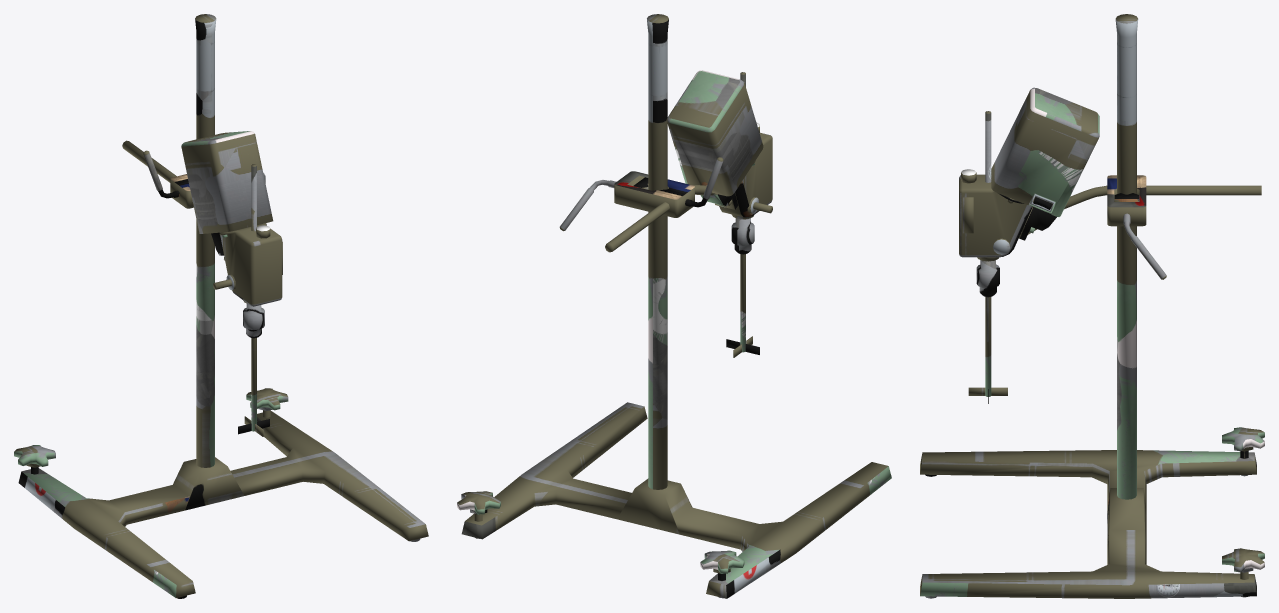
The model's file is Mechanical .fbx.
The picture shows the model from 3 angles, left to right: view 1: azimuth 30°, elevation 25°; view 2: azimuth 150°, elevation 25°; view 3: azimuth 270°, elevation 25°; orthographic projection. The views are drawn at different scales.
Parts seen in each view (by area): view 1: 1-_apts_agitator_mat, 2-_motor_apts_agitato, 4-_impeller_apts_agit; view 2: 1-_apts_agitator_mat, 2-_motor_apts_agitato, 4-_impeller_apts_agit; view 3: 1-_apts_agitator_mat, 2-_motor_apts_agitato, 4-_impeller_apts_agit, 3-_height_adjustment_.
Part boxes in pixels (x1=…): 1-_apts_agitator_mat: x1=14, y1=14, x2=428, y2=598; 2-_motor_apts_agitato: x1=122, y1=131, x2=282, y2=306; 4-_impeller_apts_agit: x1=238, y1=164, x2=269, y2=436; 1-_apts_agitator_mat: x1=457, y1=14, x2=891, y2=598; 2-_motor_apts_agitato: x1=605, y1=70, x2=772, y2=252; 4-_impeller_apts_agit: x1=726, y1=72, x2=759, y2=357; 1-_apts_agitator_mat: x1=920, y1=14, x2=1264, y2=598; 2-_motor_apts_agitato: x1=959, y1=87, x2=1261, y2=261; 4-_impeller_apts_agit: x1=968, y1=111, x2=1007, y2=403; 3-_height_adjustment_: x1=1123, y1=213, x2=1166, y2=279.
Size of the model in its own units: 0.4237 by 0.727 by 0.4401.
